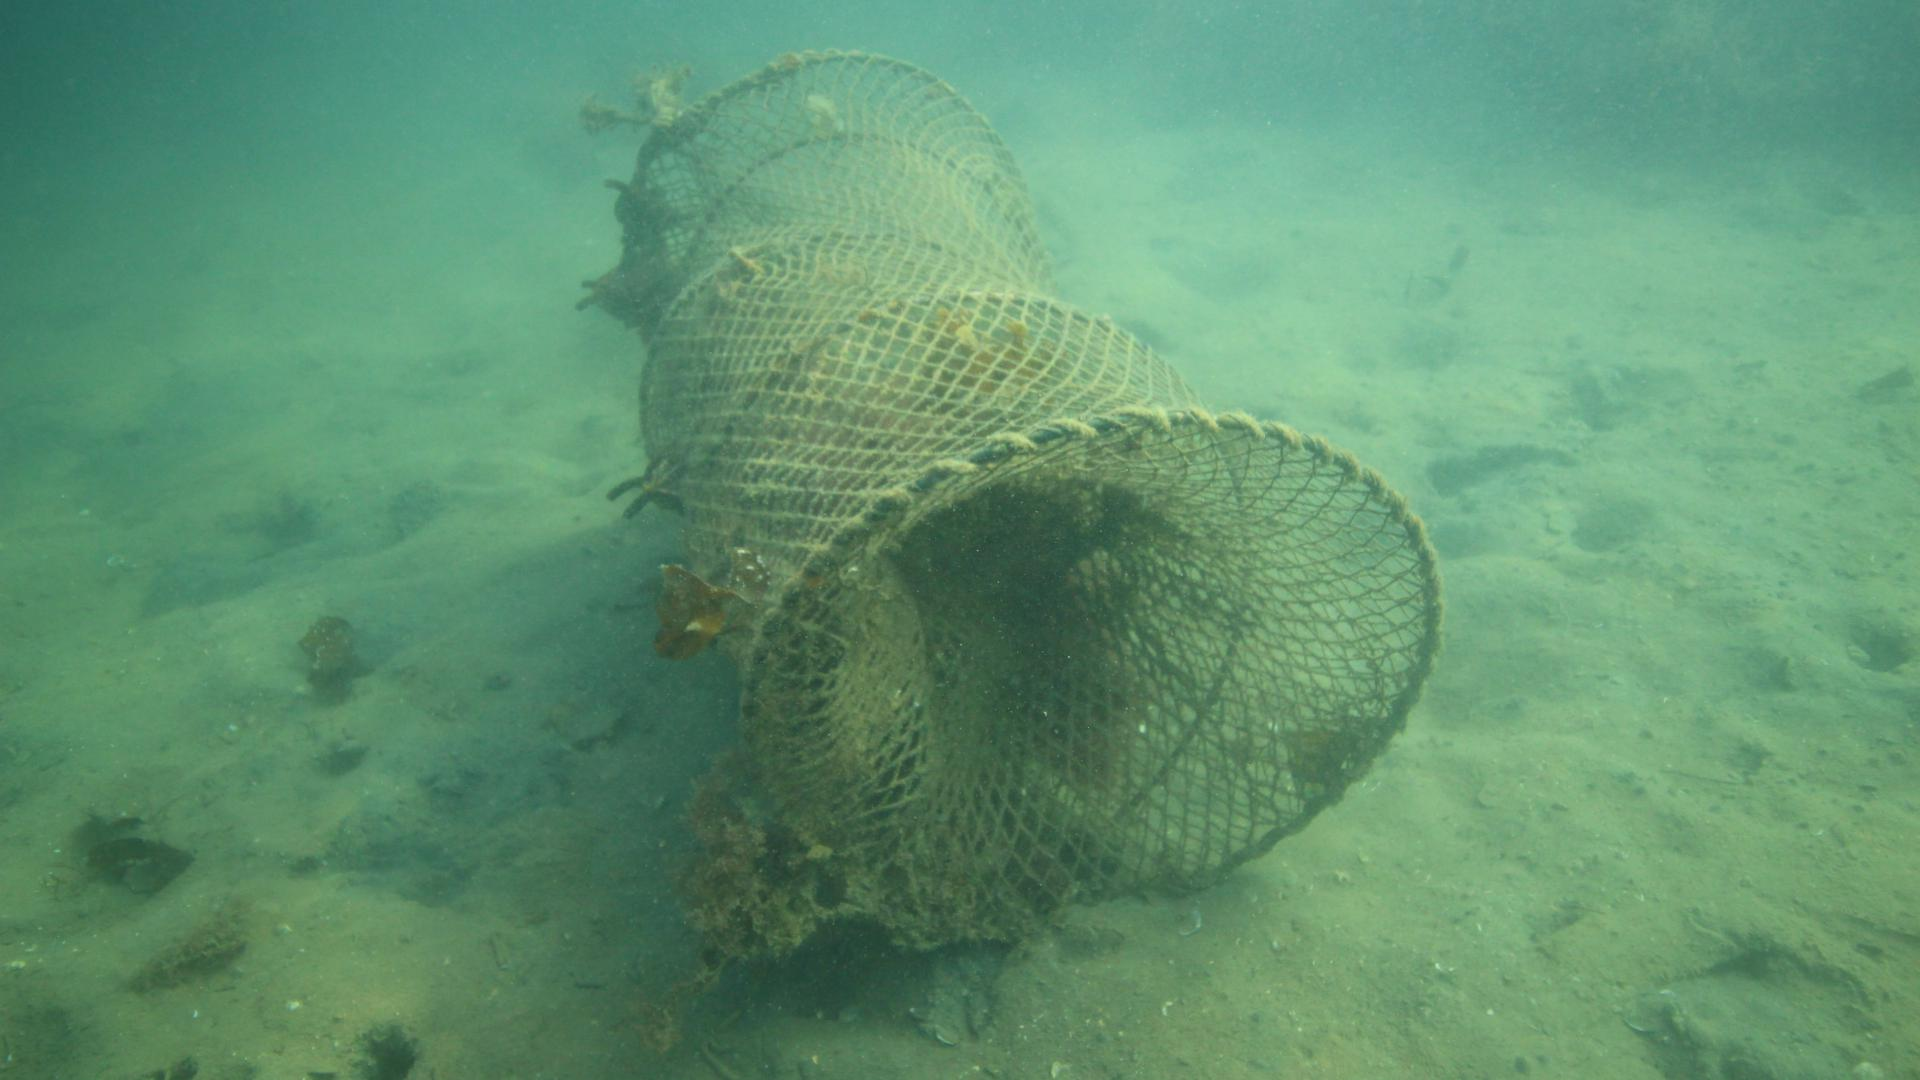spring fish trap: (620, 49, 1443, 905)
